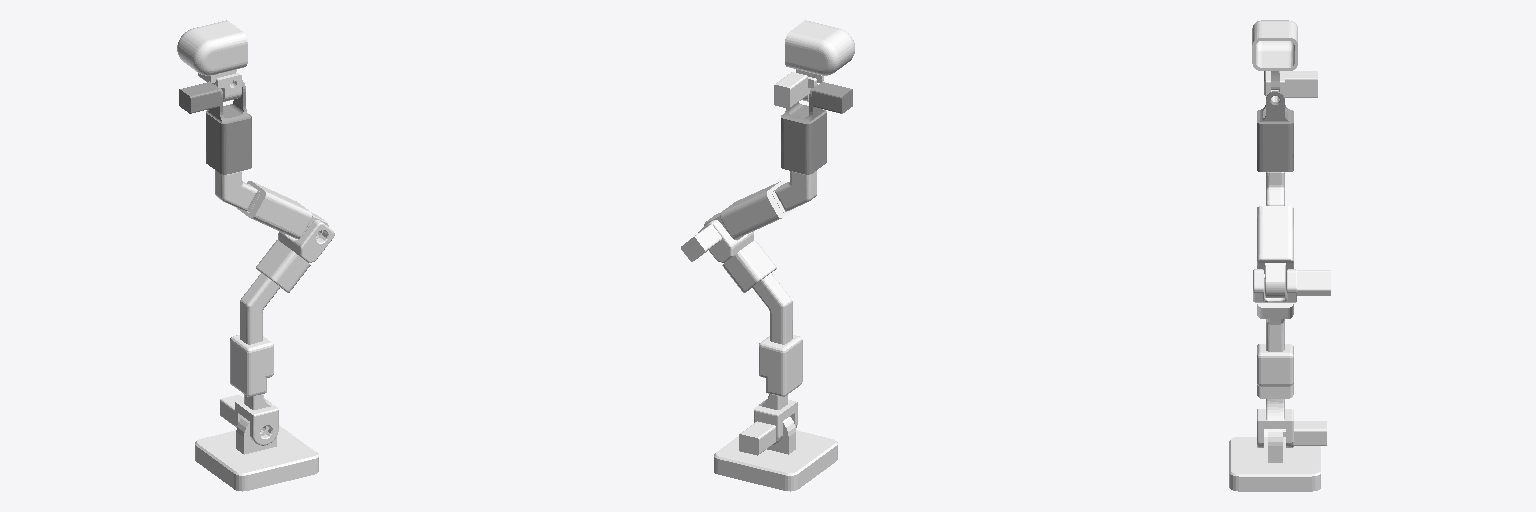
robot.urdf — mechanic_model_exo6gdl:
<?xml version="1.0" encoding="utf-8"?>
<!-- This URDF was automatically created by SolidWorks to URDF Exporter! Originally created by [author] ([email redacted]) 
     Commit Version: 1.6.0-1-g15f4949  Build Version: 1.6.7594.29634
     For more information, please see http://wiki.ros.org/sw_urdf_exporter -->
<robot
  name="mechanic_model_exo6gdl">
  <link
    name="inertial">
    <inertial>
      <origin
        xyz="-2.55411936634709E-15 -1.30745378752312E-17 -0.0167444902118063"
        rpy="0 0 0" />
      <mass
        value="0.0277842883466461" />
      <inertia
        ixx="5.88562650074952E-06"
        ixy="-4.72268099762097E-22"
        ixz="5.15087342452081E-23"
        iyy="5.95724375817234E-06"
        iyz="-3.20298136557097E-22"
        izz="1.03978583869216E-05" />
    </inertial>
    <visual>
      <origin
        xyz="0 0 0"
        rpy="0 0 0" />
      <geometry>
        <mesh
          filename="package://mechanic_model_exo6gdl/meshes/inertial.STL" />
      </geometry>
      <material
        name="">
        <color
          rgba="1 1 1 1" />
      </material>
    </visual>
    <collision>
      <origin
        xyz="0 0 0"
        rpy="0 0 0" />
      <geometry>
        <mesh
          filename="package://mechanic_model_exo6gdl/meshes/inertial.STL" />
      </geometry>
    </collision>
  </link>
  <link
    name="link1">
    <inertial>
      <origin
        xyz="0.0106809535945396 0.00868295136758494 0.0552292034616581"
        rpy="0 0 0" />
      <mass
        value="0.044960075942968" />
      <inertia
        ixx="2.7948432434881E-05"
        ixy="-1.87061191681349E-09"
        ixz="-7.81394001942823E-06"
        iyy="3.05258876976549E-05"
        iyz="7.65282176048547E-10"
        izz="5.5313050394128E-06" />
    </inertial>
    <visual>
      <origin
        xyz="0 0 0"
        rpy="0 0 0" />
      <geometry>
        <mesh
          filename="package://mechanic_model_exo6gdl/meshes/link1.STL" />
      </geometry>
      <material
        name="">
        <color
          rgba="1 1 1 1" />
      </material>
    </visual>
    <collision>
      <origin
        xyz="0 0 0"
        rpy="0 0 0" />
      <geometry>
        <mesh
          filename="package://mechanic_model_exo6gdl/meshes/link1.STL" />
      </geometry>
    </collision>
  </link>
  <joint
    name="q1"
    type="revolute">
    <origin
      xyz="0 0 0"
      rpy="0 0 0" />
    <parent
      link="inertial" />
    <child
      link="link1" />
    <axis
      xyz="0 -1 0" />
    <limit
      lower="0"
      upper="0"
      effort="0"
      velocity="0" />
  </joint>
  <link
    name="link2">
    <inertial>
      <origin
        xyz="-0.0224333560094355 2.27027663678102E-08 0.0158066348359009"
        rpy="0 0 0" />
      <mass
        value="0.0203858204963203" />
      <inertia
        ixx="1.32941069730988E-06"
        ixy="3.10777452383335E-12"
        ixz="8.04384776014172E-07"
        iyy="2.41993818939998E-06"
        iyz="1.91453387492733E-12"
        izz="1.9452498388042E-06" />
    </inertial>
    <visual>
      <origin
        xyz="0 0 0"
        rpy="0 0 0" />
      <geometry>
        <mesh
          filename="package://mechanic_model_exo6gdl/meshes/link2.STL" />
      </geometry>
      <material
        name="">
        <color
          rgba="1 1 1 1" />
      </material>
    </visual>
    <collision>
      <origin
        xyz="0 0 0"
        rpy="0 0 0" />
      <geometry>
        <mesh
          filename="package://mechanic_model_exo6gdl/meshes/link2.STL" />
      </geometry>
    </collision>
  </link>
  <joint
    name="q2"
    type="revolute">
    <origin
      xyz="0.0323552493341545 0 0.105133904334066"
      rpy="0 0 0" />
    <parent
      link="link1" />
    <child
      link="link2" />
    <axis
      xyz="0 1 0" />
    <limit
      lower="0"
      upper="0"
      effort="0"
      velocity="0" />
  </joint>
  <link
    name="link3">
    <inertial>
      <origin
        xyz="-0.0102551276298913 -8.60332663801944E-09 0.00922495292970382"
        rpy="0 0 0" />
      <mass
        value="0.00333782776468066" />
      <inertia
        ixx="1.63779073139352E-07"
        ixy="-3.00540934781443E-13"
        ixz="4.90940044410776E-08"
        iyy="2.22873104365642E-07"
        iyz="7.21279035854618E-13"
        izz="1.13225251473632E-07" />
    </inertial>
    <visual>
      <origin
        xyz="0 0 0"
        rpy="0 0 0" />
      <geometry>
        <mesh
          filename="package://mechanic_model_exo6gdl/meshes/link3.STL" />
      </geometry>
      <material
        name="">
        <color
          rgba="1 1 1 1" />
      </material>
    </visual>
    <collision>
      <origin
        xyz="0 0 0"
        rpy="0 0 0" />
      <geometry>
        <mesh
          filename="package://mechanic_model_exo6gdl/meshes/link3.STL" />
      </geometry>
    </collision>
  </link>
  <joint
    name="q3"
    type="revolute">
    <origin
      xyz="-0.0361375560878337 0 0.0250384839032992"
      rpy="0 0 0" />
    <parent
      link="link2" />
    <child
      link="link3" />
    <axis
      xyz="-0.831636482590333 0 0.555320412757156" />
    <limit
      lower="0"
      upper="0"
      effort="0"
      velocity="0" />
  </joint>
  <link
    name="link4">
    <inertial>
      <origin
        xyz="-0.00584481412976537 -6.47355257169923E-06 0.0231116436931379"
        rpy="0 0 0" />
      <mass
        value="0.0288964463729056" />
      <inertia
        ixx="1.84407577659644E-06"
        ixy="1.09180832884763E-09"
        ixz="1.1521928023612E-08"
        iyy="1.98086899908725E-06"
        iyz="-1.09143826938808E-09"
        izz="1.24517228929573E-06" />
    </inertial>
    <visual>
      <origin
        xyz="0 0 0"
        rpy="0 0 0" />
      <geometry>
        <mesh
          filename="package://mechanic_model_exo6gdl/meshes/link4.STL" />
      </geometry>
      <material
        name="">
        <color
          rgba="0.698039215686274 0.698039215686274 0.698039215686274 1" />
      </material>
    </visual>
    <collision>
      <origin
        xyz="0 0 0"
        rpy="0 0 0" />
      <geometry>
        <mesh
          filename="package://mechanic_model_exo6gdl/meshes/link4.STL" />
      </geometry>
    </collision>
  </link>
  <joint
    name="q4"
    type="revolute">
    <origin
      xyz="-0.0130095953517694 0 0.0228689244744532"
      rpy="0 0 0" />
    <parent
      link="link3" />
    <child
      link="link4" />
    <axis
      xyz="0 0 -1" />
    <limit
      lower="0"
      upper="0"
      effort="0"
      velocity="0" />
  </joint>
  <link
    name="link5">
    <inertial>
      <origin
        xyz="-6.4826395308748E-05 0.012471617228465 0.00568685835266433"
        rpy="0 0 0" />
      <mass
        value="0.0108768962192842" />
      <inertia
        ixx="4.43219333128473E-07"
        ixy="-8.29413434743765E-17"
        ixz="3.71398910921181E-09"
        iyy="2.25114624567635E-07"
        iyz="-1.09149648389532E-09"
        izz="4.02439244510635E-07" />
    </inertial>
    <visual>
      <origin
        xyz="0 0 0"
        rpy="0 0 0" />
      <geometry>
        <mesh
          filename="package://mechanic_model_exo6gdl/meshes/link5.STL" />
      </geometry>
      <material
        name="">
        <color
          rgba="1 1 1 1" />
      </material>
    </visual>
    <collision>
      <origin
        xyz="0 0 0"
        rpy="0 0 0" />
      <geometry>
        <mesh
          filename="package://mechanic_model_exo6gdl/meshes/link5.STL" />
      </geometry>
    </collision>
  </link>
  <joint
    name="q5"
    type="revolute">
    <origin
      xyz="-0.000179990761935058 0 0.042340751540877"
      rpy="0 0 0" />
    <parent
      link="link4" />
    <child
      link="link5" />
    <axis
      xyz="1 0 0" />
    <limit
      lower="0"
      upper="0"
      effort="0"
      velocity="0" />
  </joint>
  <link
    name="link6">
    <inertial>
      <origin
        xyz="-0.00999471073167814 -1.9343185981965E-09 0.0183887633408275"
        rpy="0 0 0" />
      <mass
        value="0.00726735103486083" />
      <inertia
        ixx="9.25873169963485E-07"
        ixy="1.74470487122258E-13"
        ixz="8.88062462570576E-08"
        iyy="1.01752426404158E-06"
        iyz="-1.54707150988666E-13"
        izz="1.01820007511311E-06" />
    </inertial>
    <visual>
      <origin
        xyz="0 0 0"
        rpy="0 0 0" />
      <geometry>
        <mesh
          filename="package://mechanic_model_exo6gdl/meshes/link6.STL" />
      </geometry>
      <material
        name="">
        <color
          rgba="1 1 1 0.85" />
      </material>
    </visual>
    <collision>
      <origin
        xyz="0 0 0"
        rpy="0 0 0" />
      <geometry>
        <mesh
          filename="package://mechanic_model_exo6gdl/meshes/link6.STL" />
      </geometry>
    </collision>
  </link>
  <joint
    name="q6"
    type="revolute">
    <origin
      xyz="0 0 0.00600000000000012"
      rpy="0 0 0" />
    <parent
      link="link5" />
    <child
      link="link6" />
    <axis
      xyz="0 -1 0" />
    <limit
      lower="0"
      upper="0"
      effort="0"
      velocity="0" />
  </joint>
</robot>

--- What the picture shows (computed from the rendered views, not written in the file) ---
Views: 3 orthographic renders of the robot side by side, from view 1: azimuth 30°, elevation 25°; view 2: azimuth 150°, elevation 25°; view 3: azimuth 270°, elevation 25°.
Model mechanic_model_exo6gdl with 7 links and 6 joints (6 revolute), rooted at inertial, posed all joints at 0.
Links seen in each view (by area): view 1: link1, inertial, link4, link6, link2, link3, link5; view 2: link1, inertial, link4, link6, link2, link5, link3; view 3: link1, inertial, link2, link4, link6, link5, link3.
Boxes of the visible links, x1,y1,x2,y2 form: link1: [220, 220, 334, 445]; inertial: [195, 417, 318, 491]; link4: [179, 80, 251, 174]; link6: [177, 20, 247, 85]; link2: [237, 181, 328, 238]; link3: [215, 170, 257, 210]; link5: [198, 73, 241, 101]; link1: [681, 220, 802, 455]; inertial: [714, 417, 837, 491]; link4: [781, 82, 852, 174]; link6: [785, 20, 854, 77]; link2: [704, 181, 796, 238]; link5: [774, 72, 823, 108]; link3: [775, 171, 816, 211]; link1: [1253, 269, 1330, 447]; inertial: [1229, 429, 1320, 491]; link2: [1257, 206, 1293, 297]; link4: [1257, 71, 1293, 171]; link6: [1252, 20, 1297, 89]; link5: [1266, 71, 1317, 103]; link3: [1266, 172, 1284, 205].
Size in the robot's own frame: 0.0835 by 0.055 by 0.2544 metres.
Meshes: 7 distinct files referenced, 7 mesh visuals loaded (7 binary STL).